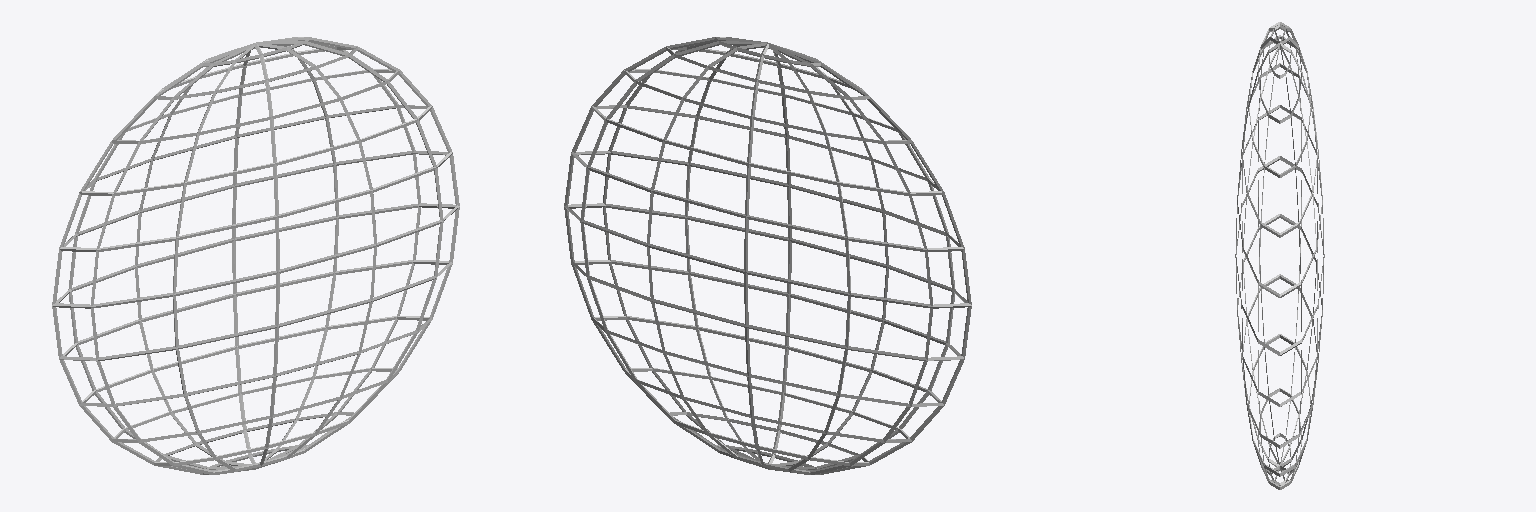
File: Clock.obj
3 renders of one model, left to right at view 1: azimuth 30°, elevation 25°; view 2: azimuth 150°, elevation 25°; view 3: azimuth 270°, elevation 25°, orthographic.
Visible parts, largest first — view 1: Sphere; view 2: Sphere; view 3: Sphere.
Part boxes in pixels (x1,y1,x2,y2): Sphere: (52, 37, 459, 474); Sphere: (564, 37, 971, 474); Sphere: (1235, 22, 1324, 489).
Bounding box in the file's own units: 5.66 × 5.66 × 1.07.